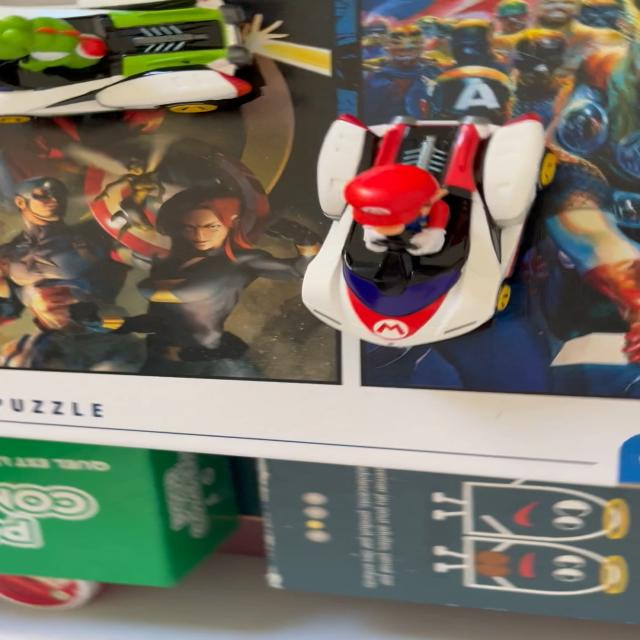mario: (298, 103, 555, 354)
yoshi: (1, 0, 325, 133)
